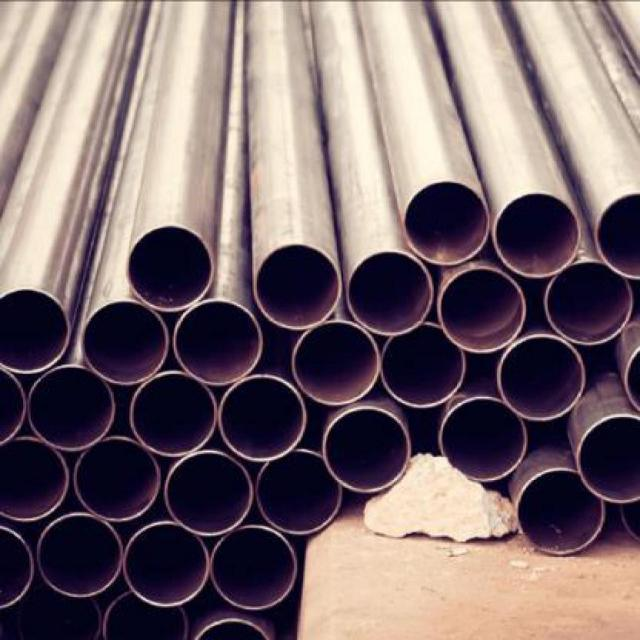pipe: (174, 298, 263, 386), (497, 335, 587, 422), (515, 468, 605, 555), (126, 224, 214, 312), (494, 192, 582, 279), (255, 244, 343, 331), (438, 266, 526, 353), (292, 319, 380, 406), (28, 364, 116, 451), (129, 371, 217, 458), (218, 375, 306, 462), (438, 397, 528, 482), (37, 512, 124, 599), (164, 450, 253, 535), (346, 251, 434, 336), (545, 261, 633, 346), (82, 300, 170, 385), (323, 408, 411, 493), (211, 525, 299, 610), (404, 180, 489, 267), (380, 323, 467, 408), (74, 436, 161, 521), (256, 450, 343, 535), (123, 522, 209, 607), (0, 288, 72, 372), (0, 436, 69, 523), (577, 414, 640, 504), (99, 589, 189, 640), (595, 192, 640, 281)
